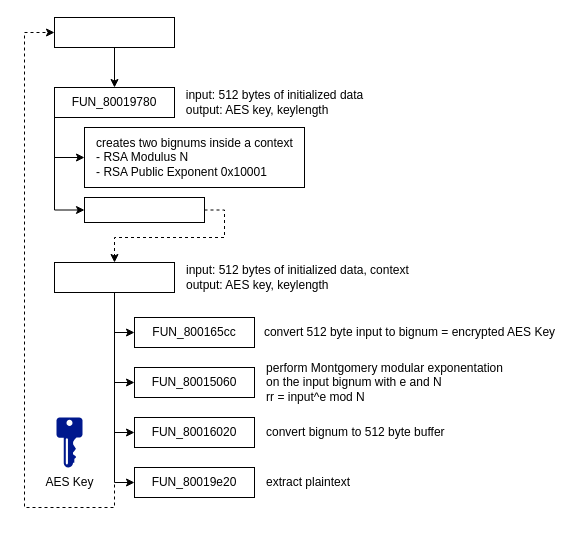
Some shapes in this 582 by 533 pixel diagram are drawn without their labels. The shapes that lost their labels are listed below. From the top down, each one's centre as x and y in pixels, then its label:
At [114,32]: "FUN_80019998".
At [144,209]: "call FUN_80019eec".
At [114,277]: "FUN_80019eec".
